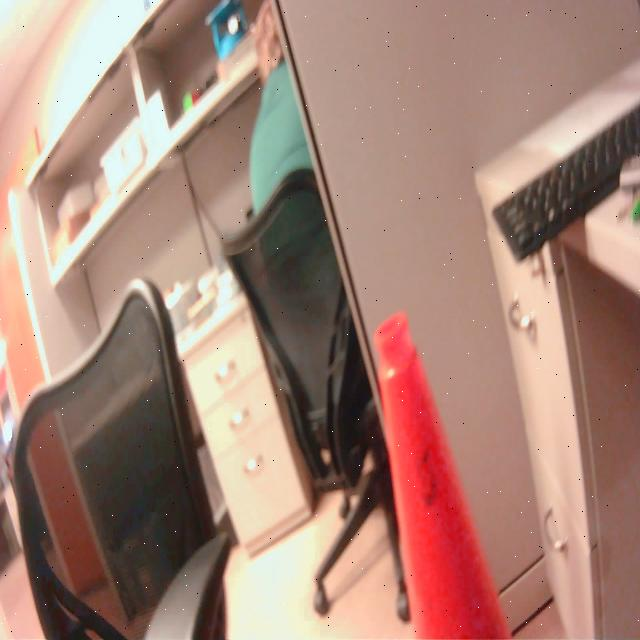traffic cone: (369, 304, 521, 640)
